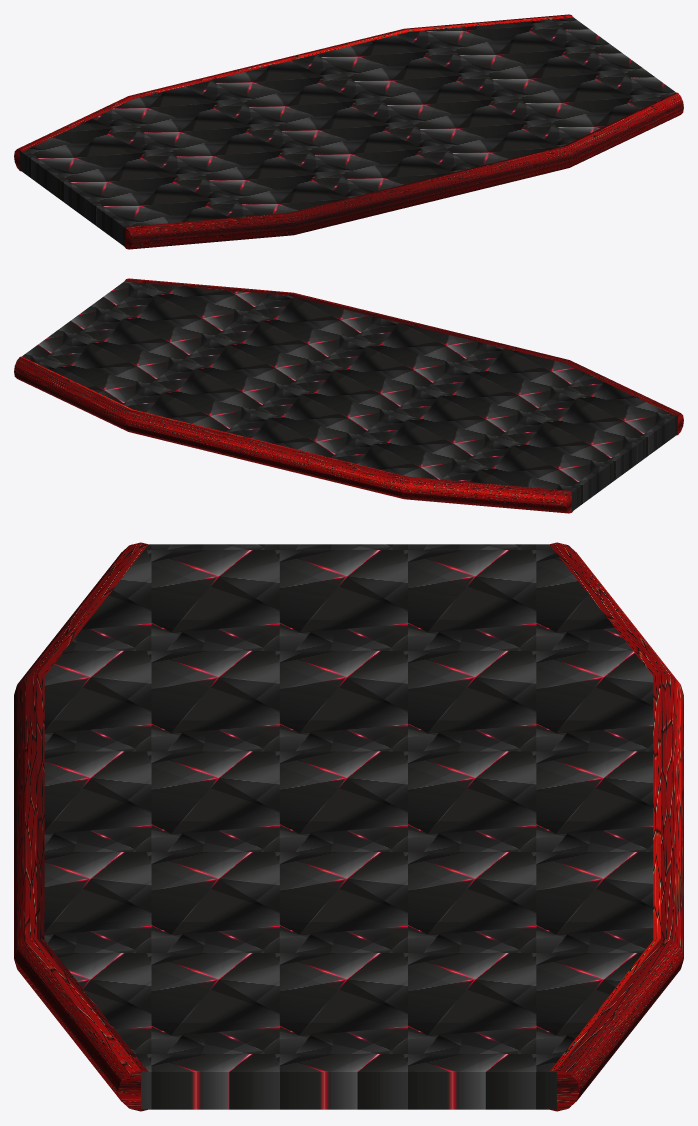
3 renders of one model, top to bottom at view 1: azimuth 30°, elevation 25°; view 2: azimuth 150°, elevation 25°; view 3: azimuth 270°, elevation 25°, orthographic. The views are drawn at different scales.
Parts seen in each view (by area): view 1: simple_platform_W2; view 2: simple_platform_W2; view 3: simple_platform_W2.
Part boxes in pixels (x1,y1,x2,y2): simple_platform_W2: [14, 14, 683, 249]; simple_platform_W2: [14, 278, 683, 513]; simple_platform_W2: [14, 542, 683, 1111].
Bounding box in the file's own units: 1200 × 44 × 644.
